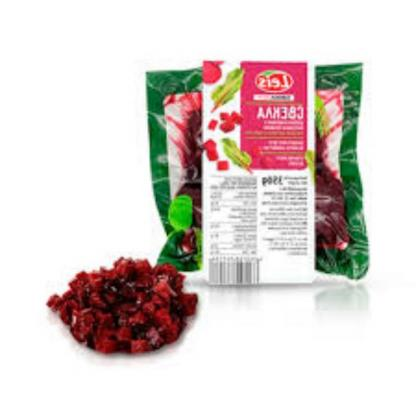beet: (48, 249, 207, 357)
